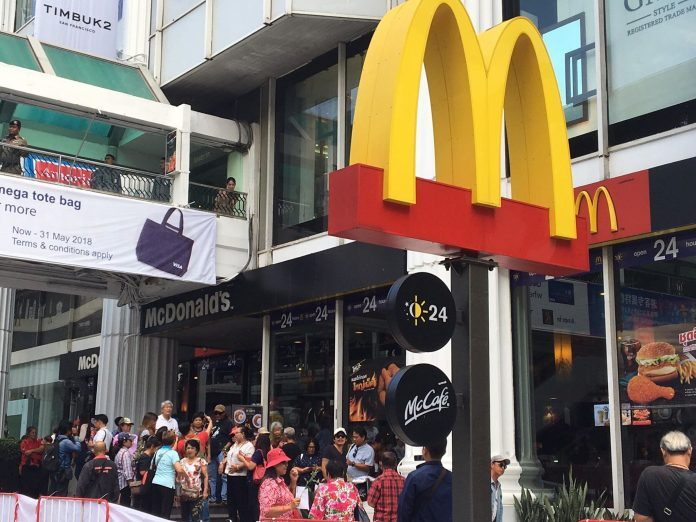mcdonalds: (357, 1, 584, 249)
